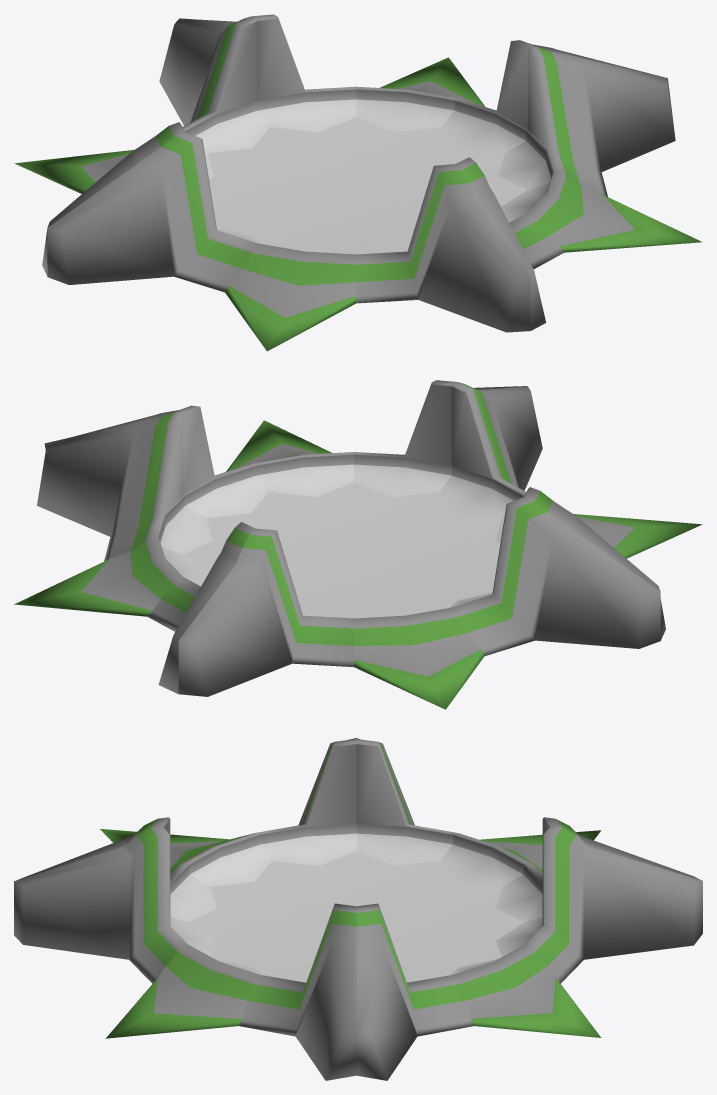
Rendered from CheckPoint.fbx.
3 views of the same model, one above another, from view 1: azimuth 30°, elevation 25°; view 2: azimuth 150°, elevation 25°; view 3: azimuth 270°, elevation 25° (orthographic). The views are drawn at different scales.
Parts seen in each view (by area): view 1: CheckPoint; view 2: CheckPoint; view 3: CheckPoint.
Boxes of the visible parts, left/top/right/bottom form: CheckPoint: left=14, top=14, right=702, bottom=351; CheckPoint: left=14, top=380, right=702, bottom=709; CheckPoint: left=14, top=738, right=702, bottom=1080.
Bounding box in the file's own units: 391 × 68.51 × 383.
